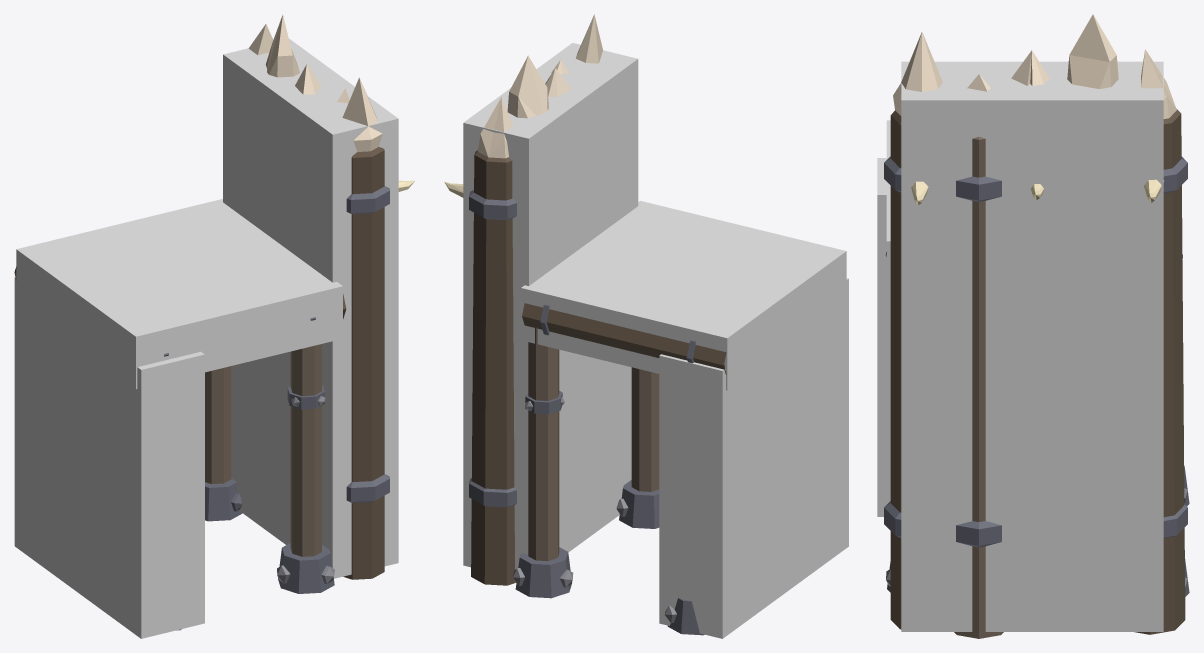
The model's file is orc_fort_wall_1.glb.
The picture shows the model from 3 angles, left to right: view 1: azimuth 30°, elevation 25°; view 2: azimuth 150°, elevation 25°; view 3: azimuth 270°, elevation 25°; orthographic projection. The views are drawn at different scales.
Visible parts, largest first — view 1: Cube.001, Cube, Cube.002, WALL_1_PART_1_01, WALL_1_PART_2_01; view 2: Cube.001, Cube, Cube.002, WALL_1_PART_1_01, WALL_1_PART_2_01; view 3: Cube, WALL_1_PART_1_01, Cube.001, Cube.002.
Part boxes in pixels (x1,y1,x2,y2): Cube.001: (14, 277, 204, 638); Cube: (223, 38, 398, 578); Cube.002: (16, 199, 342, 389); WALL_1_PART_1_01: (248, 14, 414, 579); WALL_1_PART_2_01: (14, 267, 346, 630); Cube.001: (659, 278, 848, 638); Cube: (463, 43, 638, 569); Cube.002: (521, 200, 846, 390); WALL_1_PART_1_01: (444, 14, 602, 585); WALL_1_PART_2_01: (513, 303, 726, 635); Cube: (901, 61, 1163, 631); WALL_1_PART_1_01: (884, 14, 1187, 638); Cube.001: (877, 158, 890, 516); Cube.002: (886, 120, 890, 303).
Bounding box in the file's own units: 3.34 × 5.47 × 2.57.
Materials: 1 (1 with a texture image).
